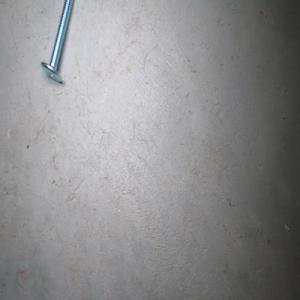Bolt: (40, 0, 76, 83)
